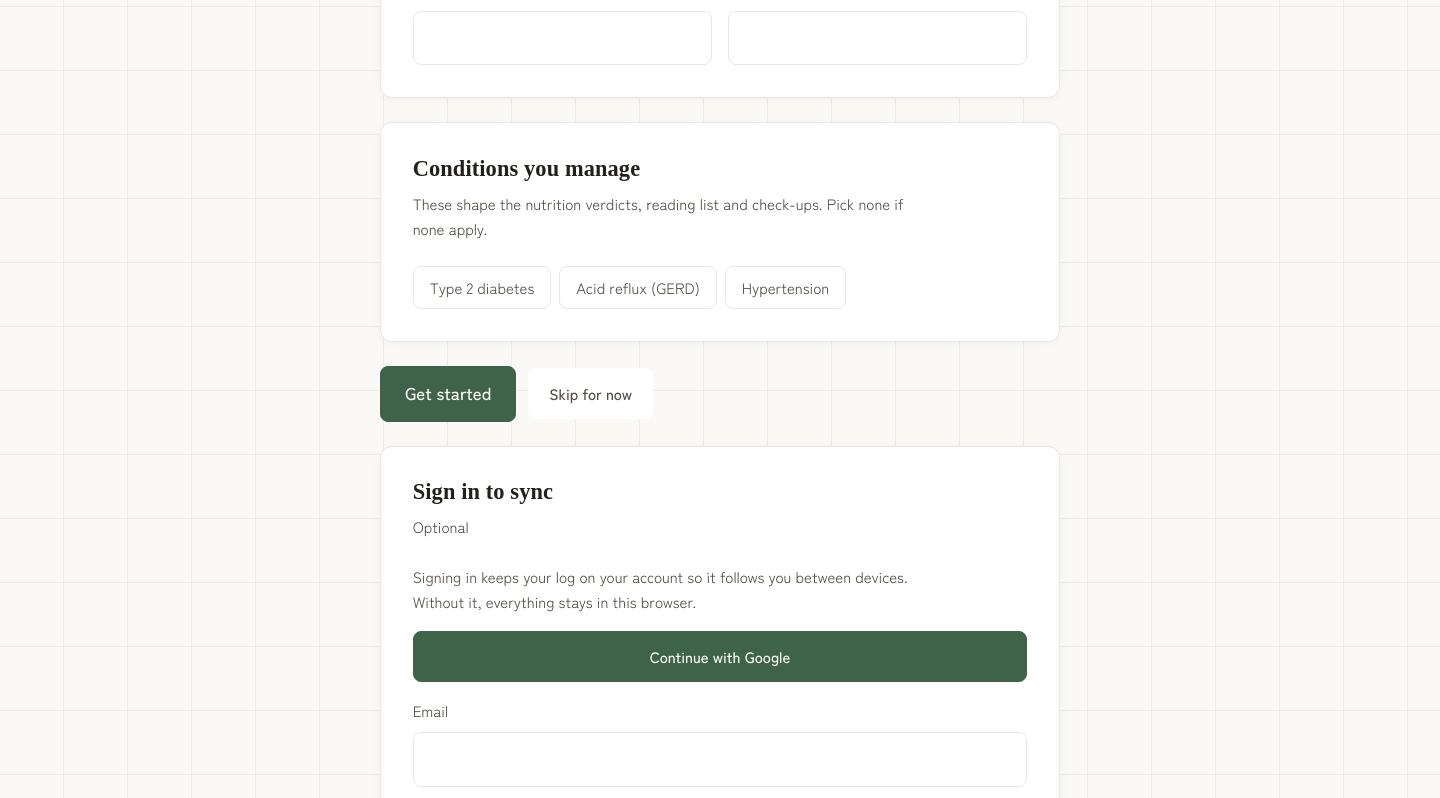
a first-time visitor › sees onboarding, and a dashboard with none of the old sample content
(page scrolled)
Click the button "Skip for now": (591, 394) [528,368,653,420]
(page scrolled)
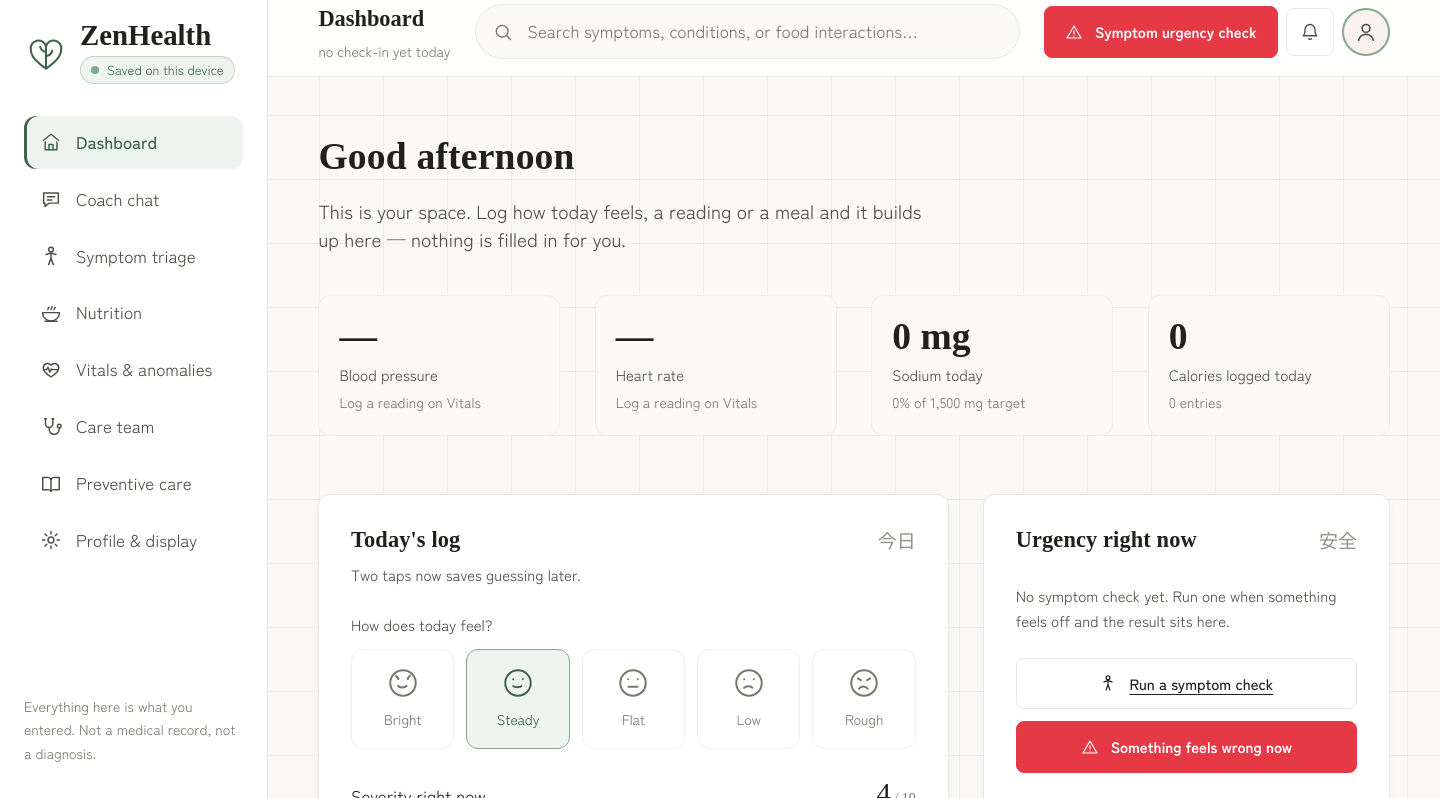
Expected: the text "nothing is filled in for you" is shown, [318,197,922,252]
